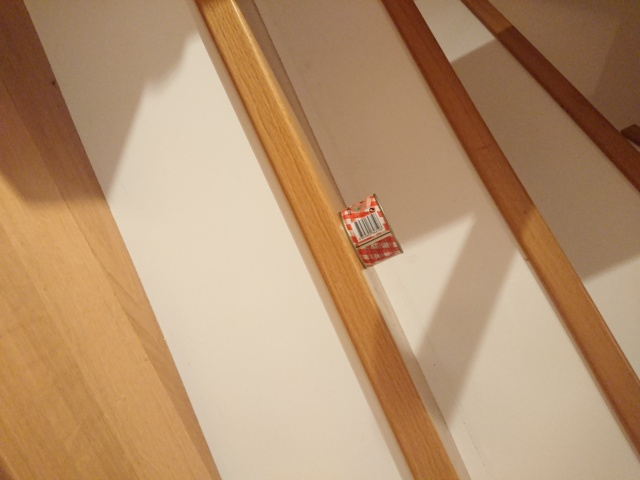Podravka Luncheon Meat 150g: (336, 190, 406, 271)
